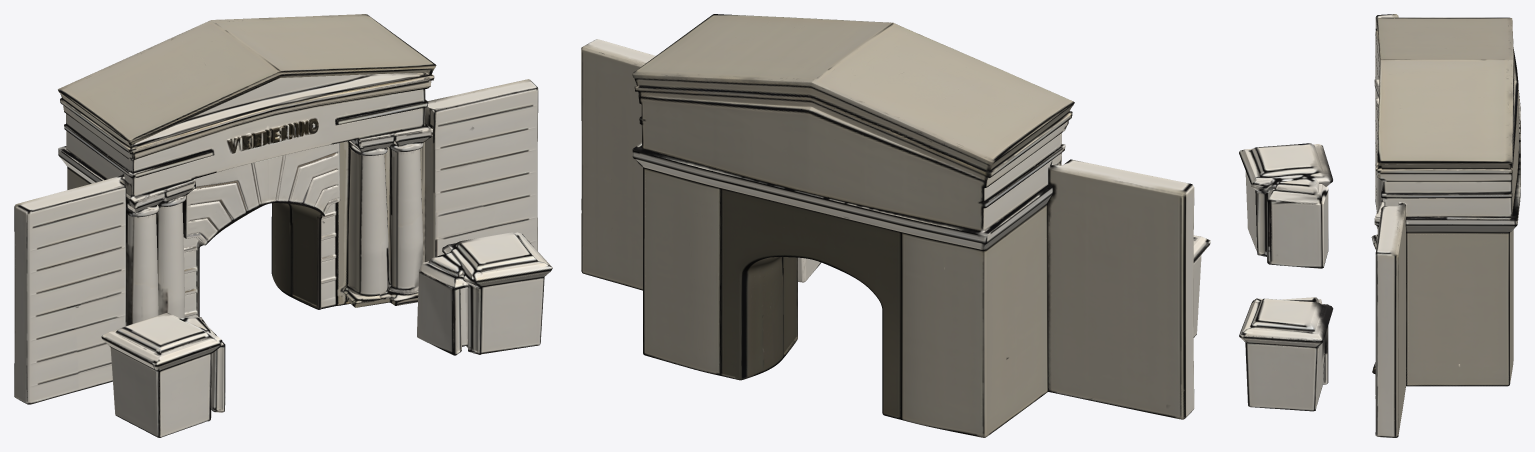
Rendered from benteng_vredeburg.glb.
3 renders of one model, left to right at view 1: azimuth 30°, elevation 25°; view 2: azimuth 150°, elevation 25°; view 3: azimuth 270°, elevation 25°, orthographic. The views are drawn at different scales.
Parts seen in each view (by area): view 1: convert; view 2: convert; view 3: convert.
Part boxes in pixels (x1,y1,x2,y2): convert: [14, 14, 552, 437]; convert: [581, 14, 1210, 437]; convert: [1239, 14, 1520, 437].
Bounding box in the file's own units: 1.08 × 0.539 × 0.5318.
1 material, 1 textured.
